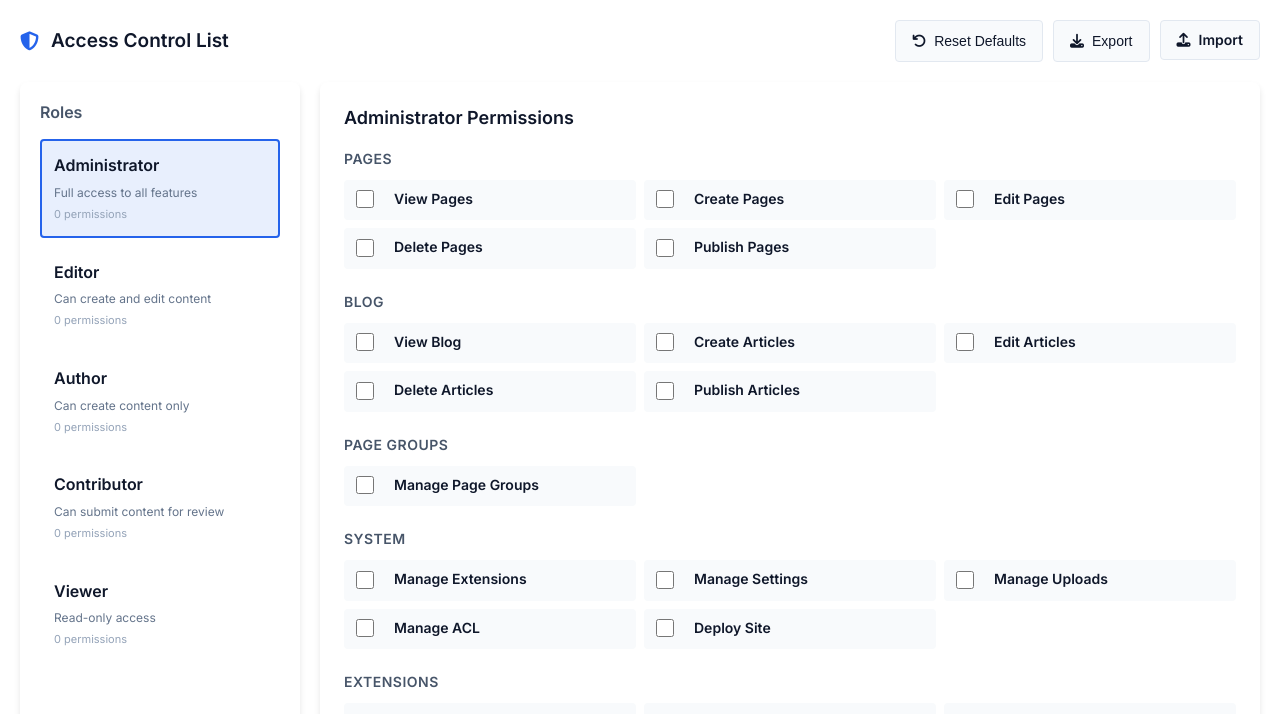
ACLSection Component › Role Selection › should update permissions panel when role is selected
The image size is (1280, 714).
Step 1. Click the text "Editor" → (133, 294), box [54, 262, 211, 327]
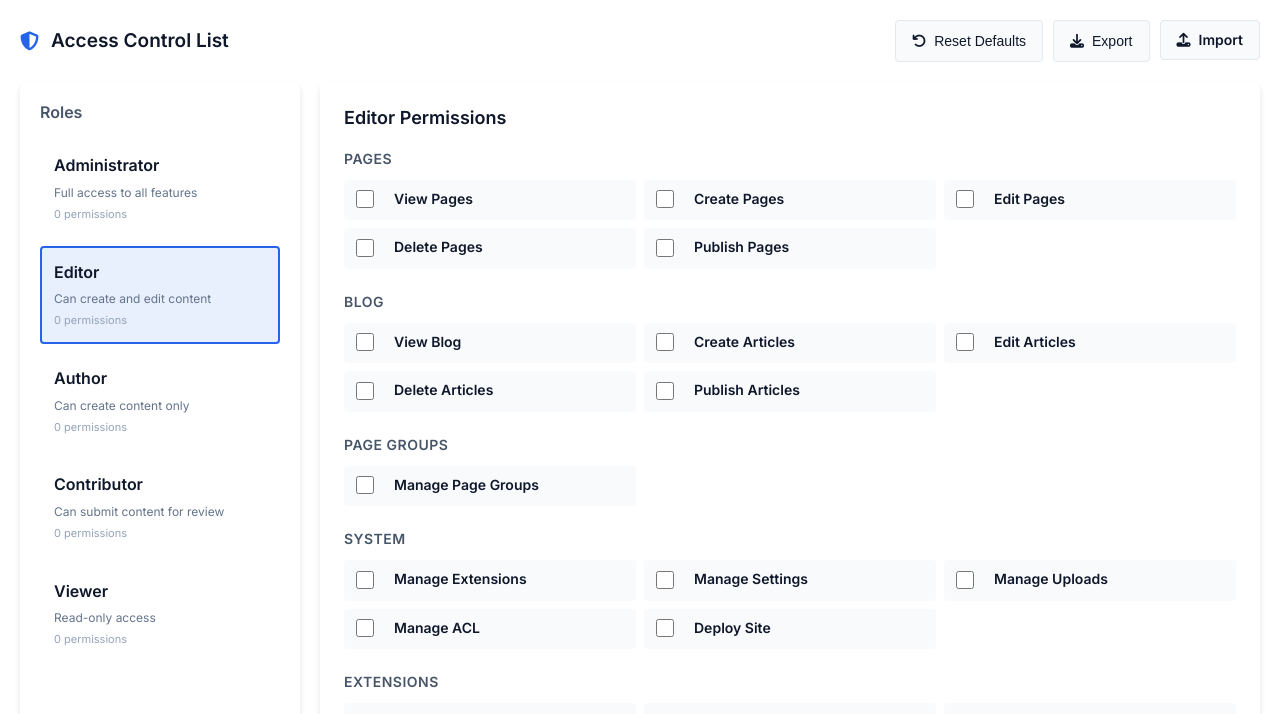
Expected: the heading "Editor Permissions" is shown, [344, 107, 506, 128]
